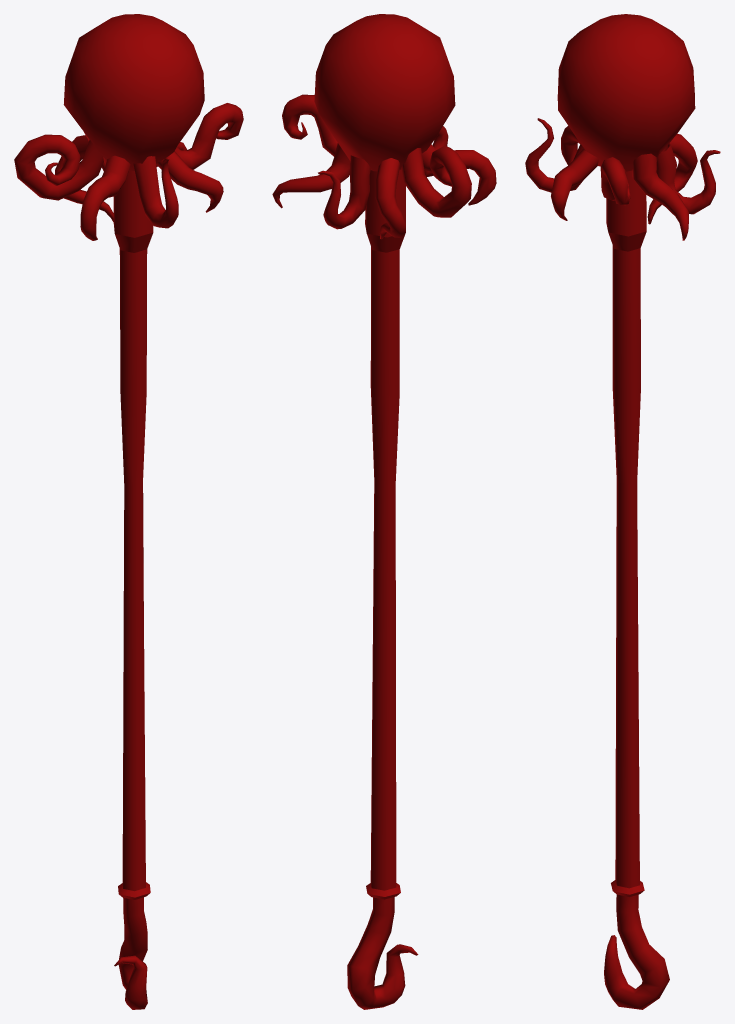
File: Octostaff.FBX
3 renders of one model, left to right at view 1: azimuth 30°, elevation 25°; view 2: azimuth 150°, elevation 25°; view 3: azimuth 270°, elevation 25°, orthographic.
Parts seen in each view (by area): view 1: Octostaff; view 2: Octostaff; view 3: Octostaff.
Part boxes in pixels (x1,y1,x2,y2): Octostaff: [14, 14, 243, 1009]; Octostaff: [272, 14, 496, 1009]; Octostaff: [525, 14, 720, 1009].
Bounding box in the file's own units: 39.37 × 180 × 32.35.
